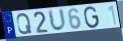1: (108, 5, 118, 26)
2: (34, 11, 49, 34)
6: (67, 7, 83, 31)
G: (83, 6, 101, 30)
Q: (16, 12, 33, 35)
U: (47, 8, 68, 33)
